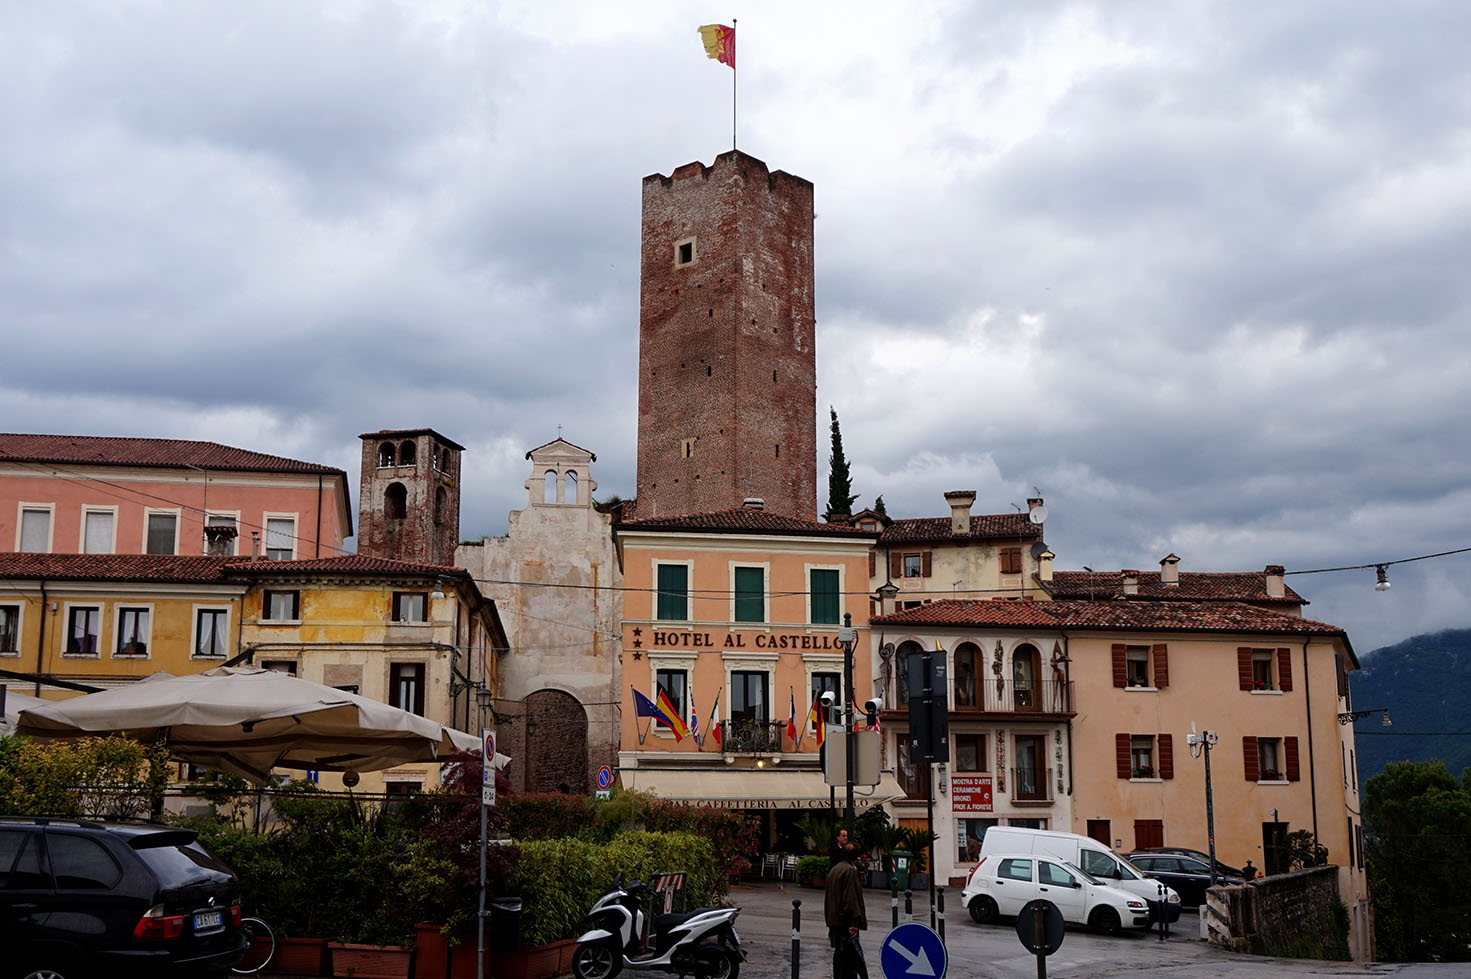Flag: (695, 19, 740, 75), (626, 681, 672, 738), (649, 684, 691, 743), (804, 685, 829, 748), (705, 692, 728, 755), (784, 684, 800, 750), (684, 688, 700, 743)
